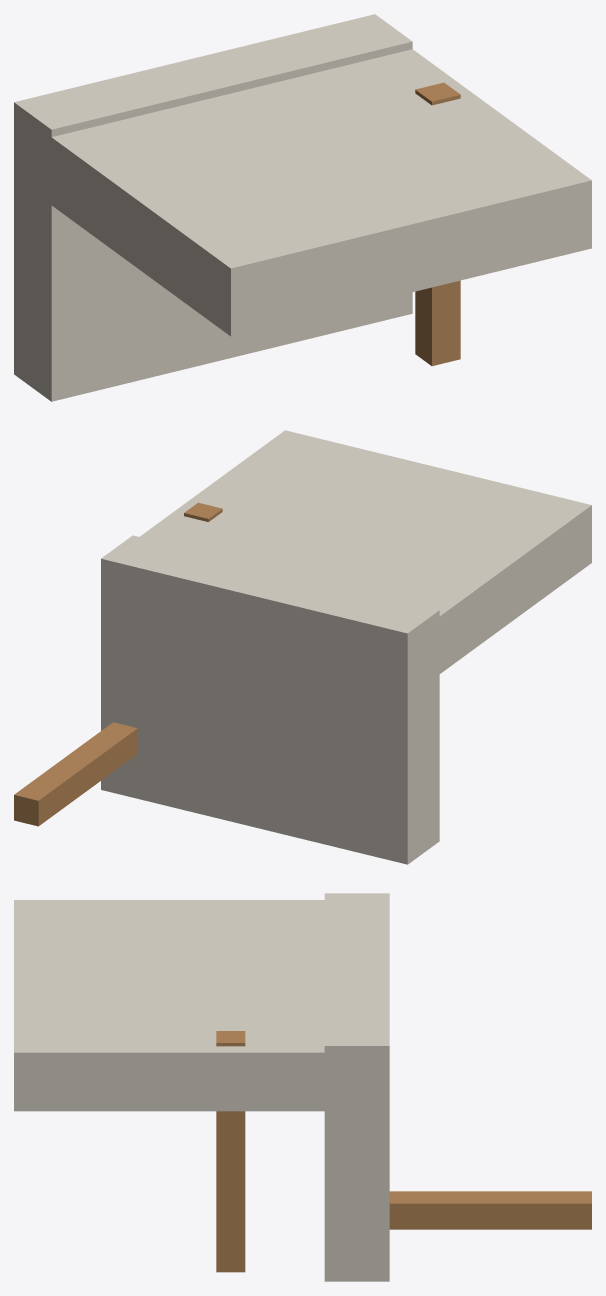
Rendered from relaxing-chairs.glb.
3 views of the same model, one above another, from view 1: azimuth 30°, elevation 25°; view 2: azimuth 150°, elevation 25°; view 3: azimuth 270°, elevation 25° (orthographic). The views are drawn at different scales.
Visible parts, largest first — view 1: Back, Seat, Arm; view 2: Seat, Back, Leg; view 3: Back, Seat, Leg, Arm.
Boxes of the visible parts, x1=… form: Back: x1=22, y1=49, x2=591, y2=336; Seat: x1=14, y1=14, x2=412, y2=401; Arm: x1=415, y1=82, x2=460, y2=366; Seat: x1=101, y1=535, x2=439, y2=864; Back: x1=140, y1=430, x2=591, y2=691; Leg: x1=14, y1=722, x2=137, y2=826; Back: x1=14, y1=900, x2=375, y2=1111; Seat: x1=324, y1=893, x2=389, y2=1281; Leg: x1=389, y1=1191, x2=591, y2=1229; Arm: x1=216, y1=1031, x2=245, y2=1272.
Size of the model in its own units: 1 by 0.72 by 1.6.
